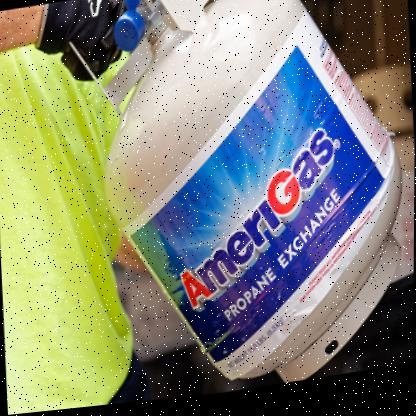gas-tank: (49, 0, 415, 411)
